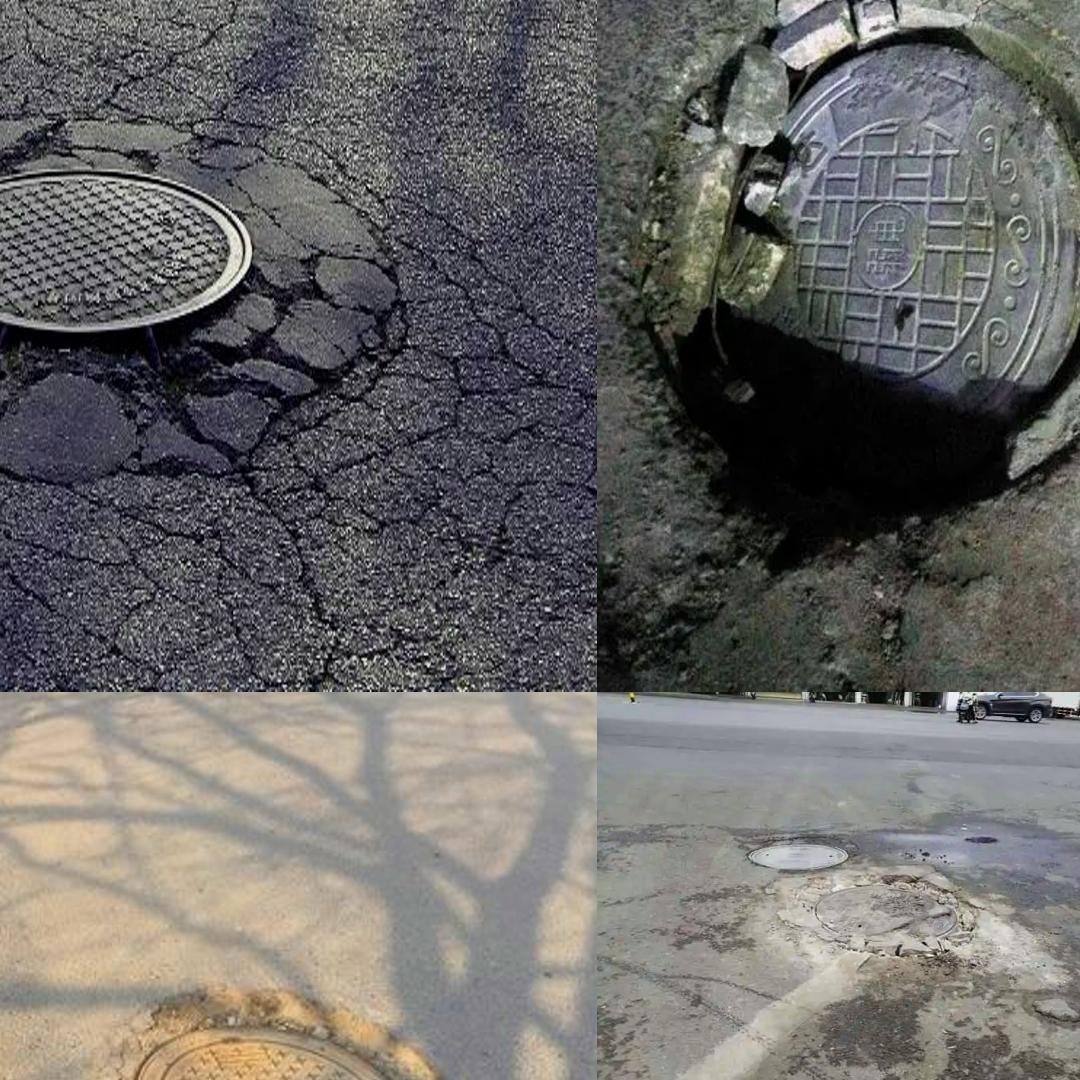circle: (618, 0, 1080, 535), (0, 69, 412, 526), (75, 964, 469, 1080), (782, 866, 1028, 998)
